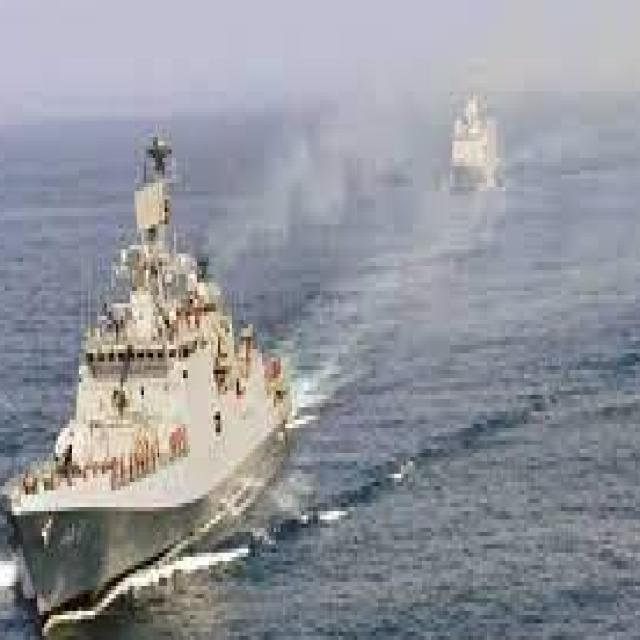navalvessels: (5, 130, 315, 616), (440, 76, 504, 186)
